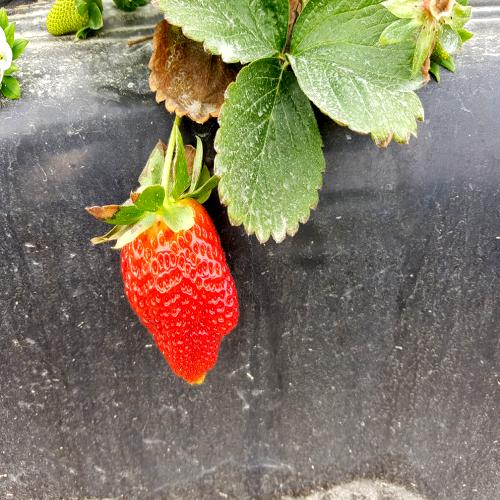ripe: (112, 183, 246, 394)
